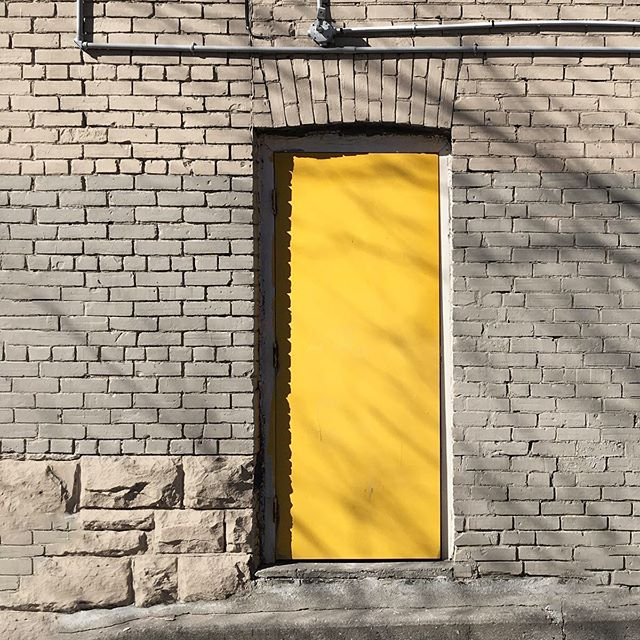door: (259, 150, 446, 564)
wall: (3, 3, 640, 585)
